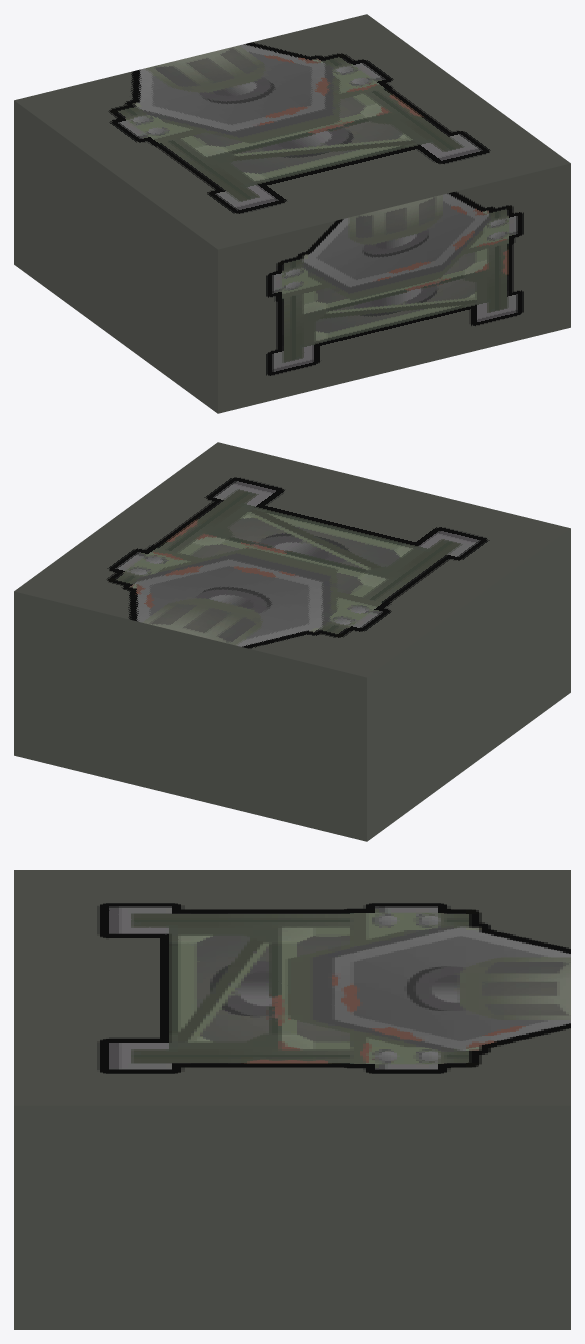
The model's file is Building_AncientDrillPlatform.glb.
3 views of the same model, one above another, from view 1: azimuth 30°, elevation 25°; view 2: azimuth 150°, elevation 25°; view 3: azimuth 270°, elevation 25° (orthographic). The views are drawn at different scales.
Visible parts, largest first — view 1: AncientDrillPlatform; view 2: AncientDrillPlatform; view 3: AncientDrillPlatform.
Boxes of the visible parts, bbox=[...] form: AncientDrillPlatform: bbox=[14, 14, 570, 413]; AncientDrillPlatform: bbox=[14, 442, 570, 841]; AncientDrillPlatform: bbox=[14, 870, 570, 1329].
Bounding box in the file's own units: 1.8 × 0.8 × 1.8.
1 material, 1 textured.
